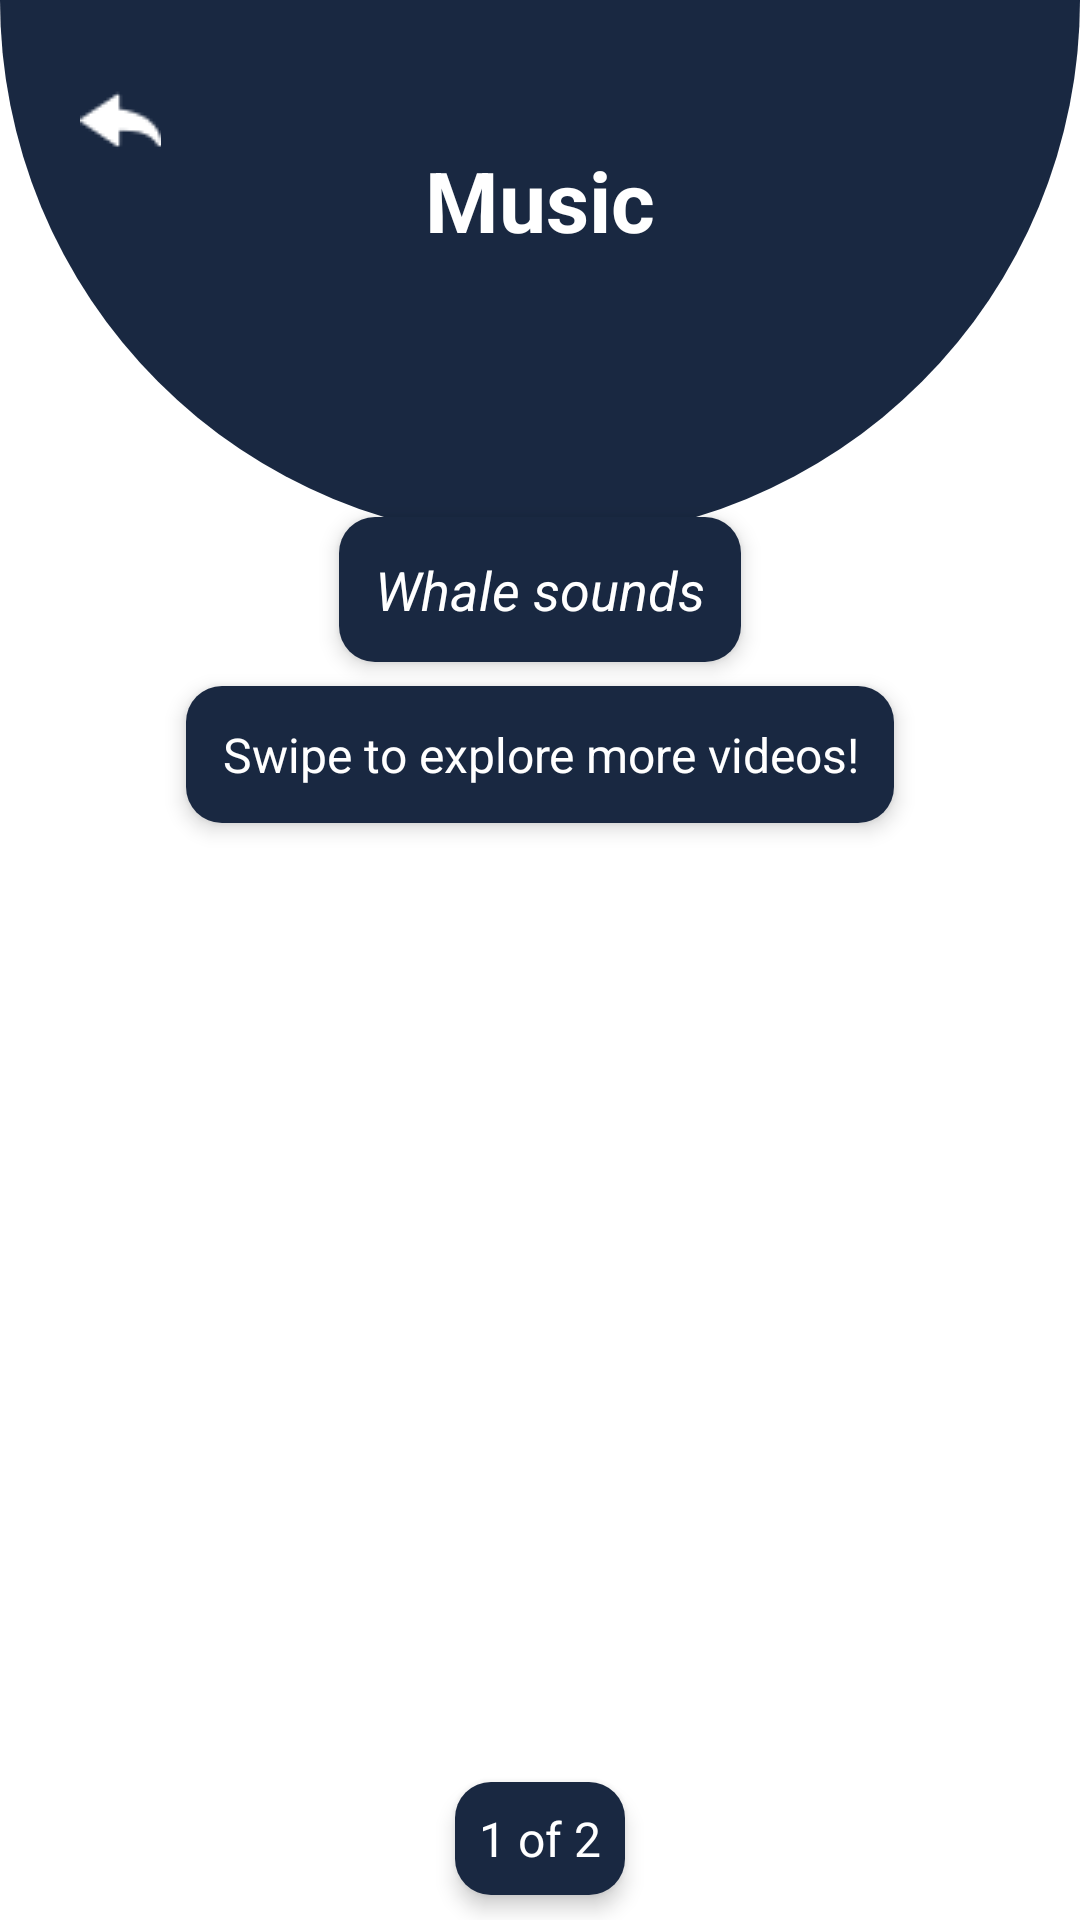

Named icons in this screenshot (1080px x 1920px) and their centers, (x=x, y=y):
Back Button: (x=120, y=120)
